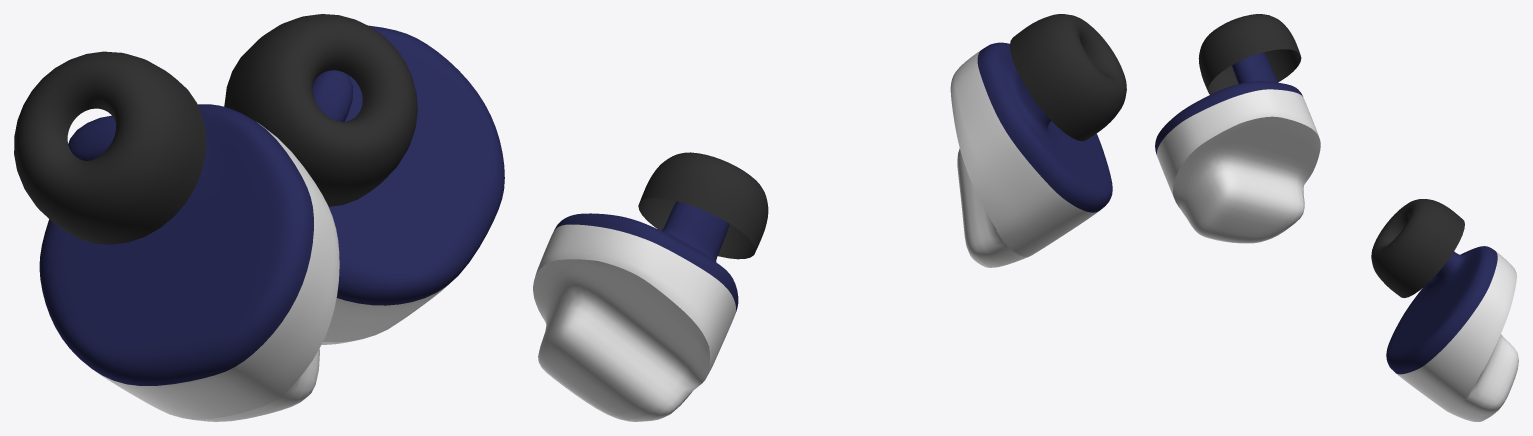
The model's file is airpod3.glb.
The picture shows the model from 3 angles, left to right: view 1: azimuth 30°, elevation 25°; view 2: azimuth 150°, elevation 25°; view 3: azimuth 270°, elevation 25°; orthographic projection. The views are drawn at different scales.
Visible parts, largest first — view 1: airpod3-right, airpod3-left; view 2: airpod3-left, airpod3-right; view 3: airpod3-right, airpod3-left.
Part boxes in pixels (<box>): airpod3-right: <box>14,51,339,421</box>; airpod3-left: <box>223,14,504,344</box>; airpod3-left: <box>533,152,768,421</box>; airpod3-right: <box>950,14,1126,267</box>; airpod3-right: <box>1155,14,1320,243</box>; airpod3-left: <box>1371,199,1518,421</box>.
Bounding box in the file's own units: 0.0382 × 0.0305 × 0.0349.
